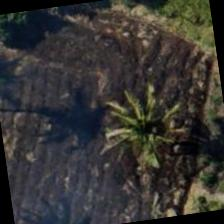Kelapa_Sawit: (91, 70, 192, 172)
